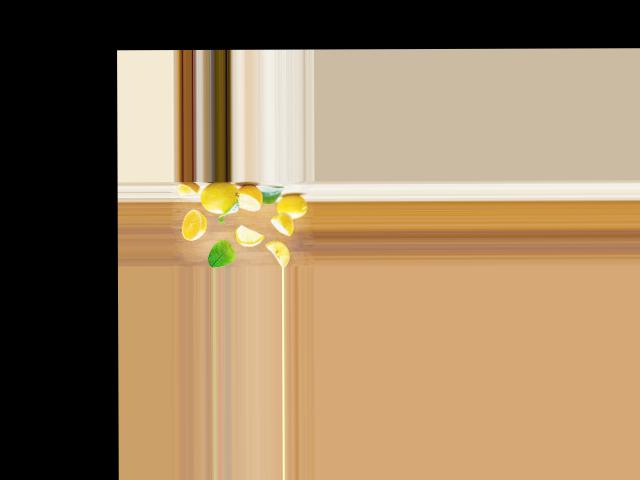lemon: (275, 194, 310, 221)
